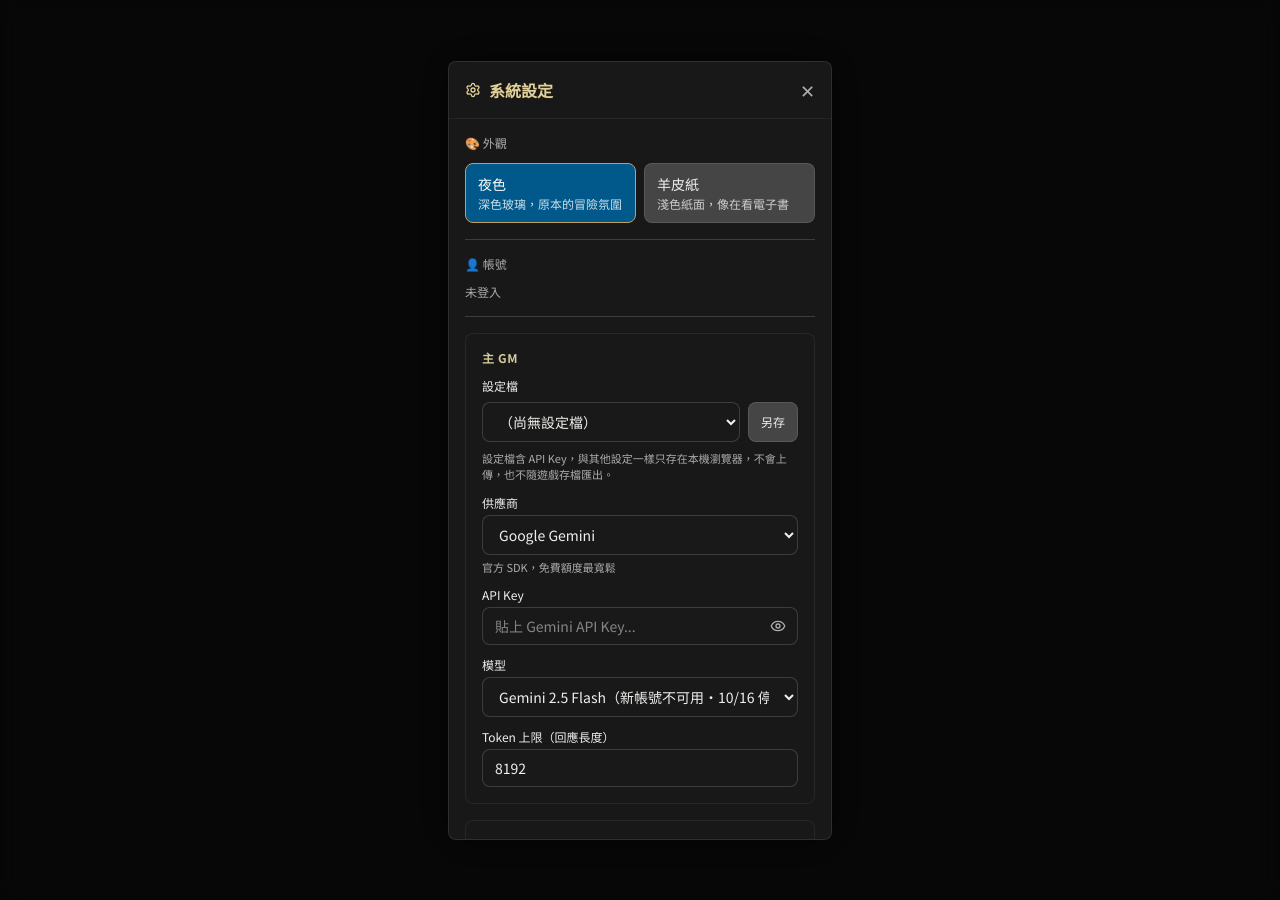
Test: SettingsModal — 供應商切換 › 換到 OpenAI 相容：型號與端點一起換掉，不會留著上一家的 model id
This screenshot has width=1280, height=900.
Select "OpenAI 相容" in the dropdown named "供應商": (640, 534) [482,514,798,554]
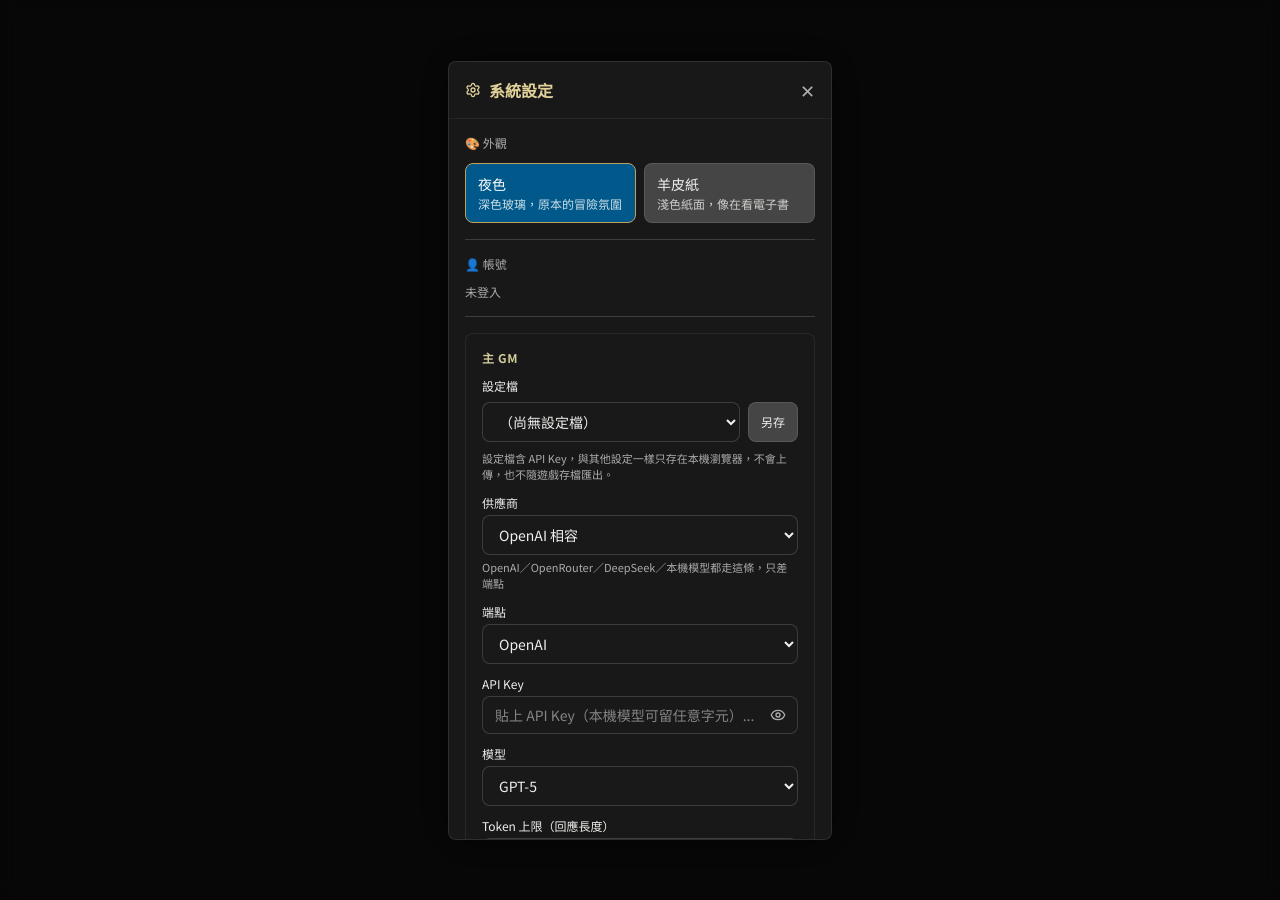
Expected: the dropdown named "模型" shows "GPT-5", [482,766,798,806]
Expected: the dropdown named "端點" shows "OpenAI", [482,624,798,664]
